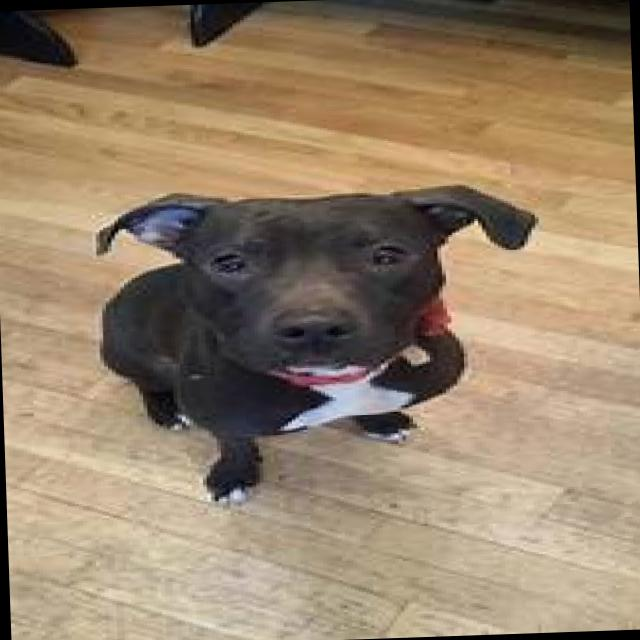animal: (87, 176, 544, 509)
